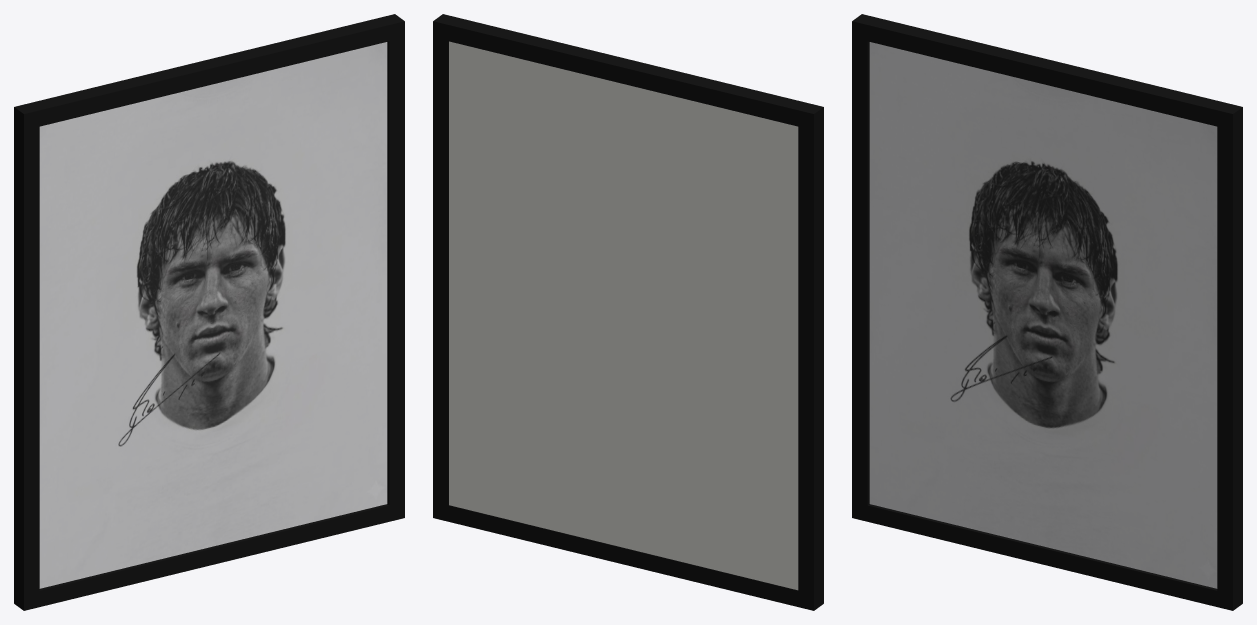
Rendered from framed-black-white-portrait-poster-minimalist-signed-headshot-art.glb.
The picture shows the model from 3 angles, left to right: view 1: azimuth 30°, elevation 25°; view 2: azimuth 150°, elevation 25°; view 3: azimuth 330°, elevation 25°; orthographic projection.
Parts seen in each view (by area): view 1: Signed Icon – Portrait-Poster in Schwarz-Weiß; view 2: Signed Icon – Portrait-Poster in Schwarz-Weiß; view 3: Signed Icon – Portrait-Poster in Schwarz-Weiß.
Part boxes in pixels (box(x1,y1,x2,y2)): Signed Icon – Portrait-Poster in Schwarz-Weiß: box(14, 14, 404, 610); Signed Icon – Portrait-Poster in Schwarz-Weiß: box(433, 14, 823, 610); Signed Icon – Portrait-Poster in Schwarz-Weiß: box(852, 14, 1242, 610).
Size of the model in its own units: 0.4891 by 0.6096 by 0.022.
Materials: 1 (1 with a texture image).
